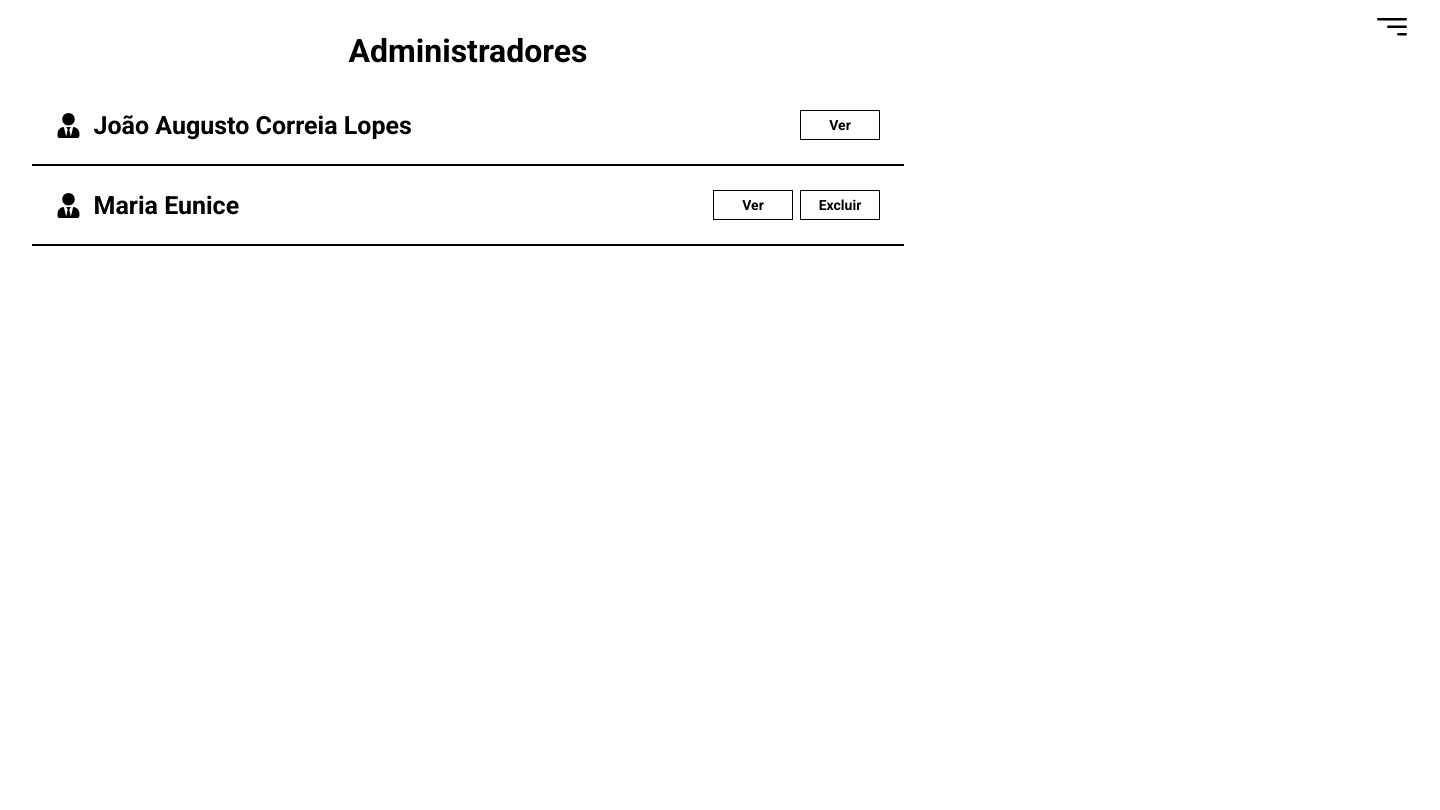
Test: usersAdm › Render warning delete userAdm
Step 1. Click the button "Excluir" → (840, 205), box [800,190,880,220]
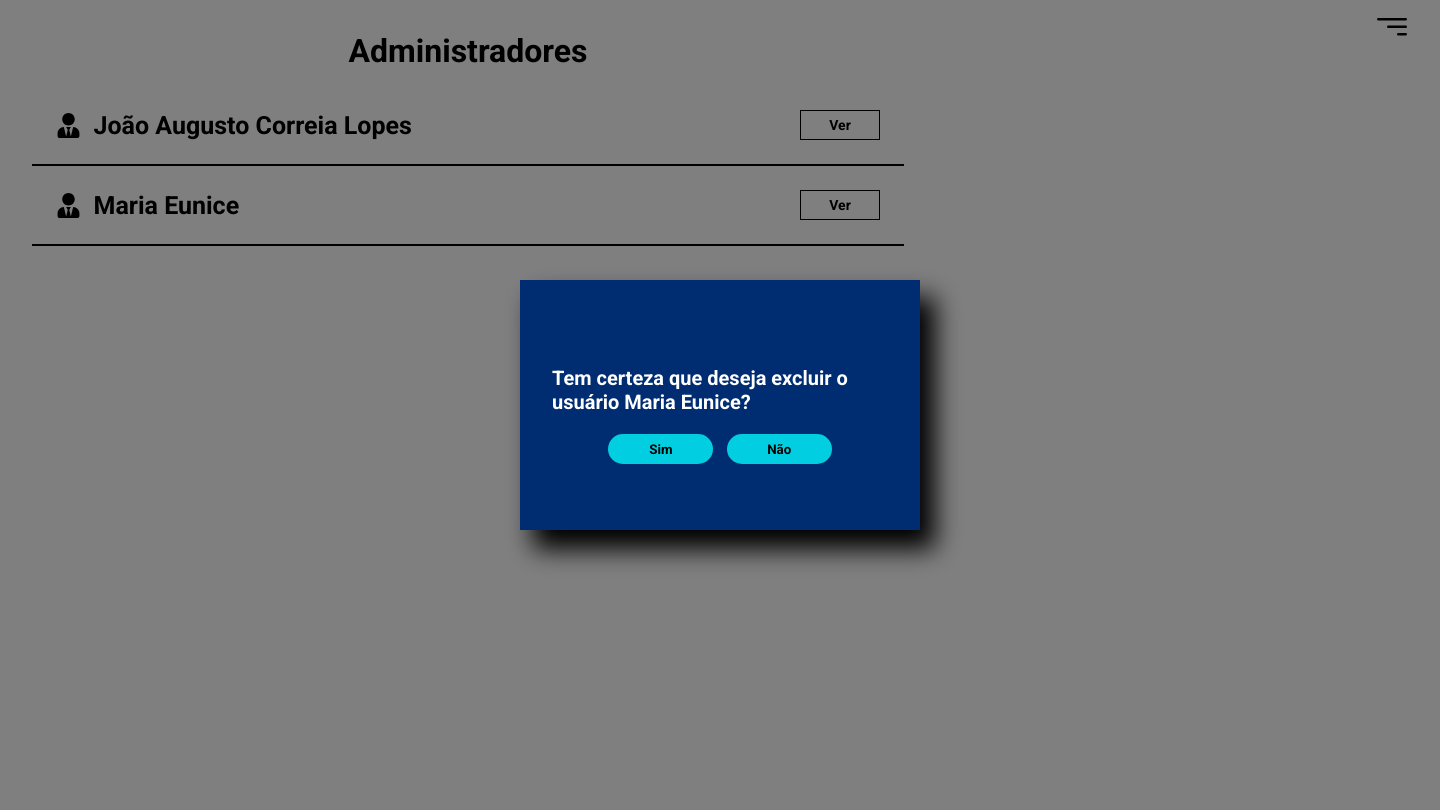
Now the text "Tem certeza que deseja excluir o usuário Maria Eunice?" is shown, box [552,366,848,414]
Now the button "Sim" is shown, box [608,434,713,464]
Now the button "Não" is shown, box [727,434,832,464]
